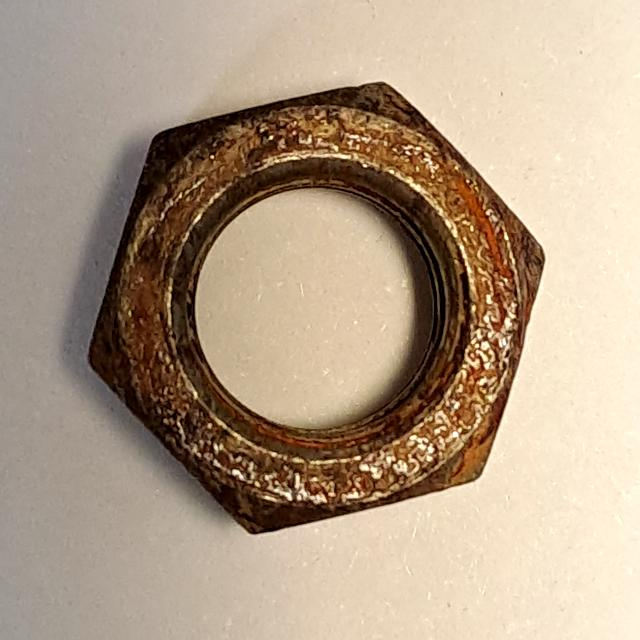Rust: (70, 61, 556, 556)
